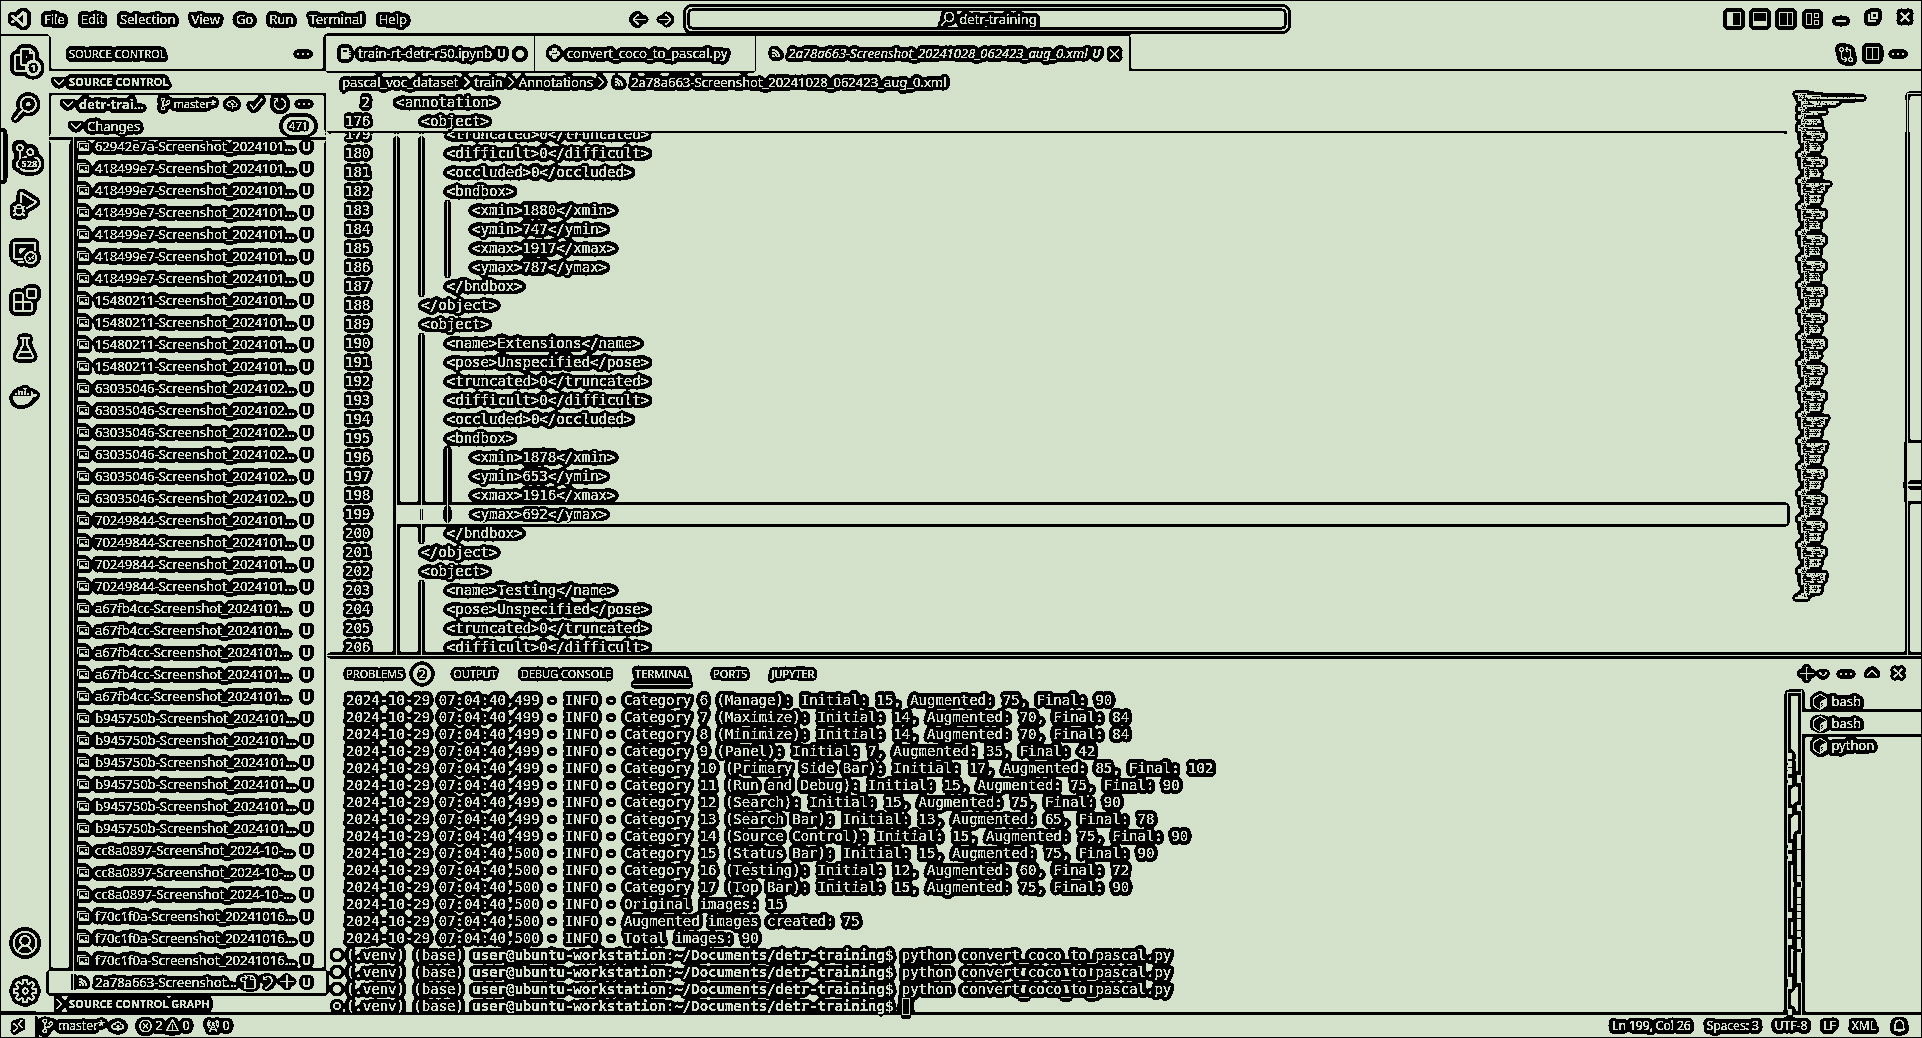Accounts: (6, 925, 40, 961)
Activity Bar: (0, 40, 48, 1015)
Close: (1894, 1, 1916, 26)
Editor: (326, 37, 1916, 650)
Explorer: (3, 43, 43, 80)
Extensions: (6, 284, 40, 318)
Manage: (9, 975, 39, 1006)
Maximize: (1859, 6, 1883, 28)
Minimize: (1831, 6, 1852, 27)
Panel: (328, 657, 1919, 1007)
Primary Side Bar: (49, 39, 324, 1012)
Run and Debug: (4, 183, 40, 219)
Search: (4, 90, 41, 126)
Search Bar: (680, 3, 1293, 33)
Source Control: (6, 136, 42, 176)
Status Bar: (3, 1011, 1919, 1035)
Testing: (6, 328, 39, 364)
Top Bar: (0, 1, 1919, 35)
